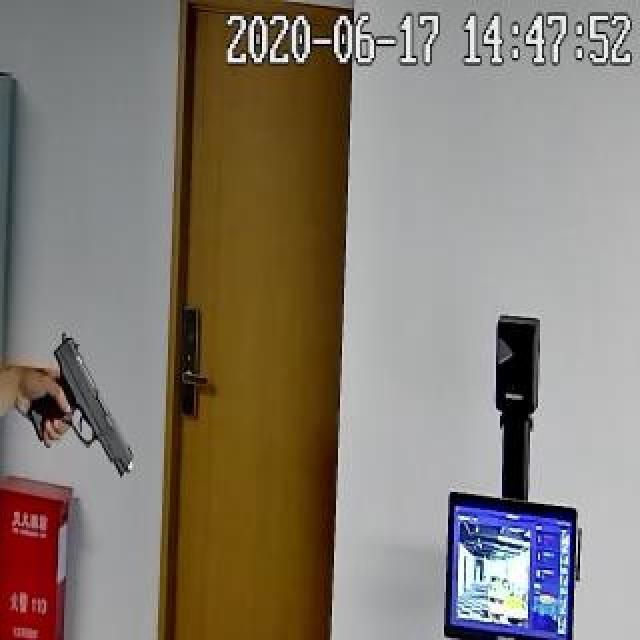Guns: (5, 321, 164, 498)
